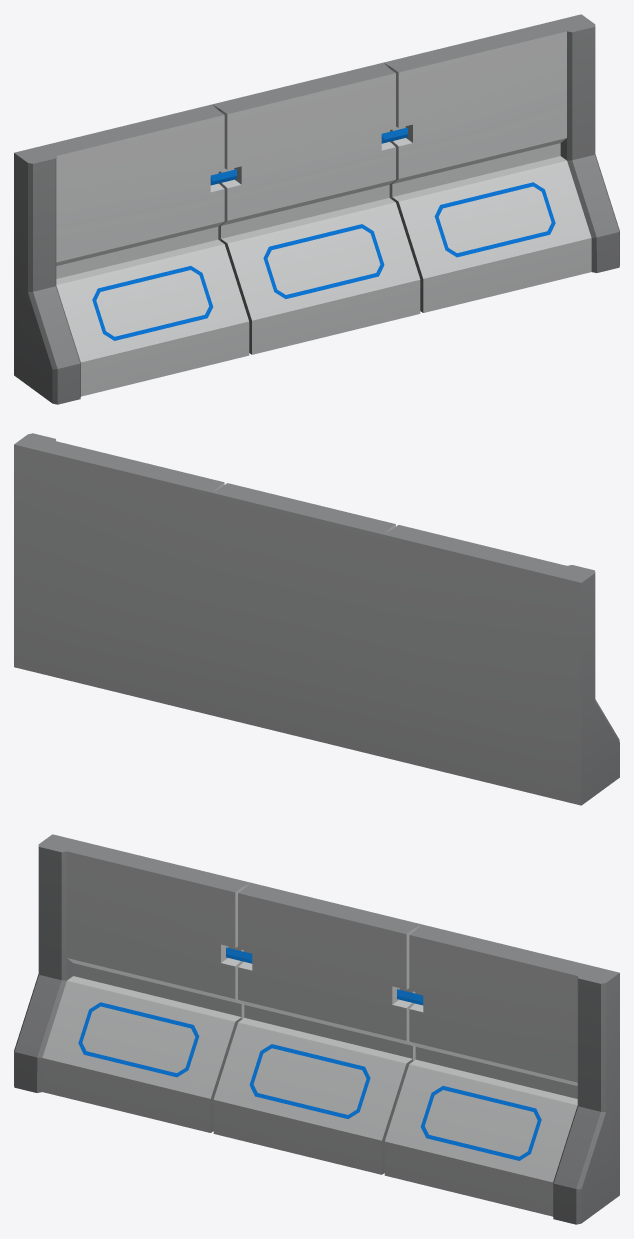
The model's file is Wall_type_A_027.glb.
The picture shows the model from 3 angles, top to bottom: view 1: azimuth 30°, elevation 25°; view 2: azimuth 150°, elevation 25°; view 3: azimuth 330°, elevation 25°; orthographic projection.
Parts seen in each view (by area): view 1: Wall_type_A_027; view 2: Wall_type_A_027; view 3: Wall_type_A_027.
Part boxes in pixels (bbox=[...]): Wall_type_A_027: bbox=[14, 14, 619, 404]; Wall_type_A_027: bbox=[14, 433, 619, 805]; Wall_type_A_027: bbox=[14, 834, 619, 1224].
Bounding box in the file's own units: 4 × 1.5 × 0.5.
2 materials, 2 textured.
